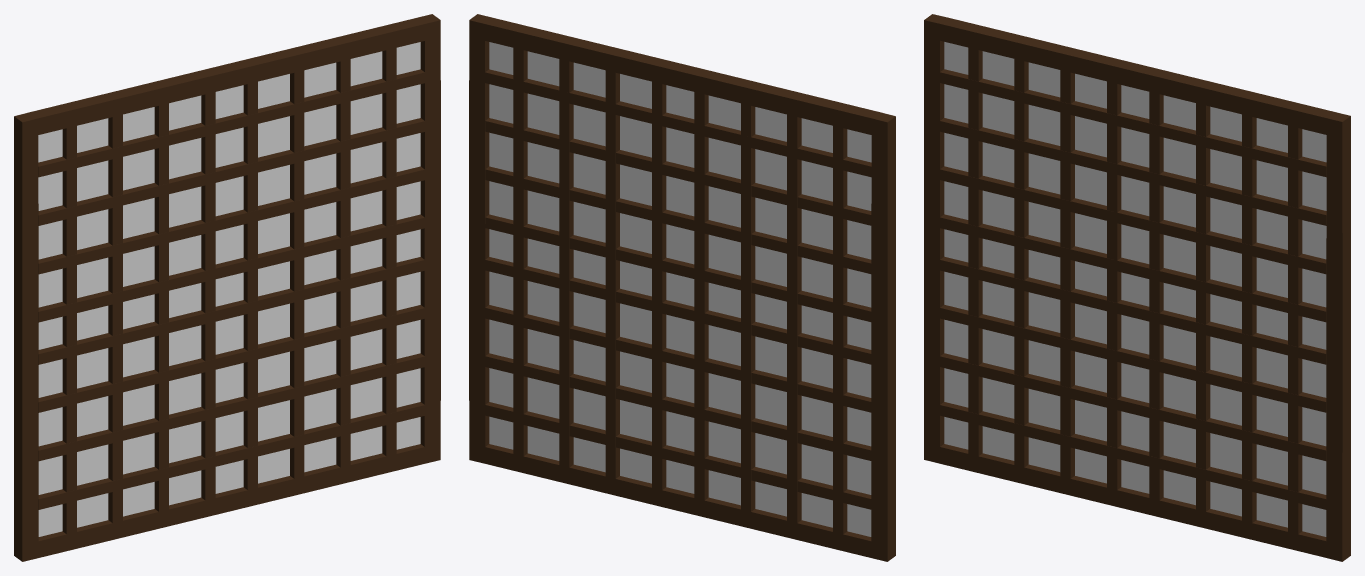
File: Screen_Door.fbx
3 renders of one model, left to right at view 1: azimuth 30°, elevation 25°; view 2: azimuth 150°, elevation 25°; view 3: azimuth 330°, elevation 25°, orthographic.
Parts seen in each view (by area): view 1: Screen Door; view 2: Screen Door; view 3: Screen Door.
Boxes of the visible parts, bbox=[...] form: Screen Door: bbox=[14, 14, 440, 561]; Screen Door: bbox=[469, 14, 895, 561]; Screen Door: bbox=[924, 14, 1350, 561].
Size of the model in its own units: 158 by 159 by 5.58.
